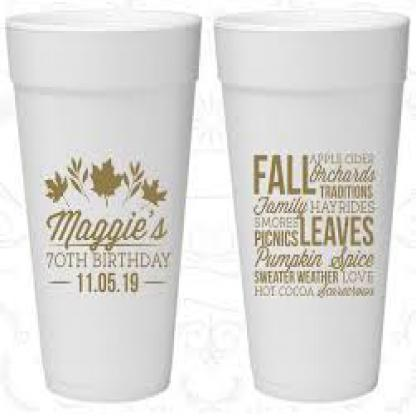paper: (212, 8, 408, 400), (3, 11, 199, 402)
